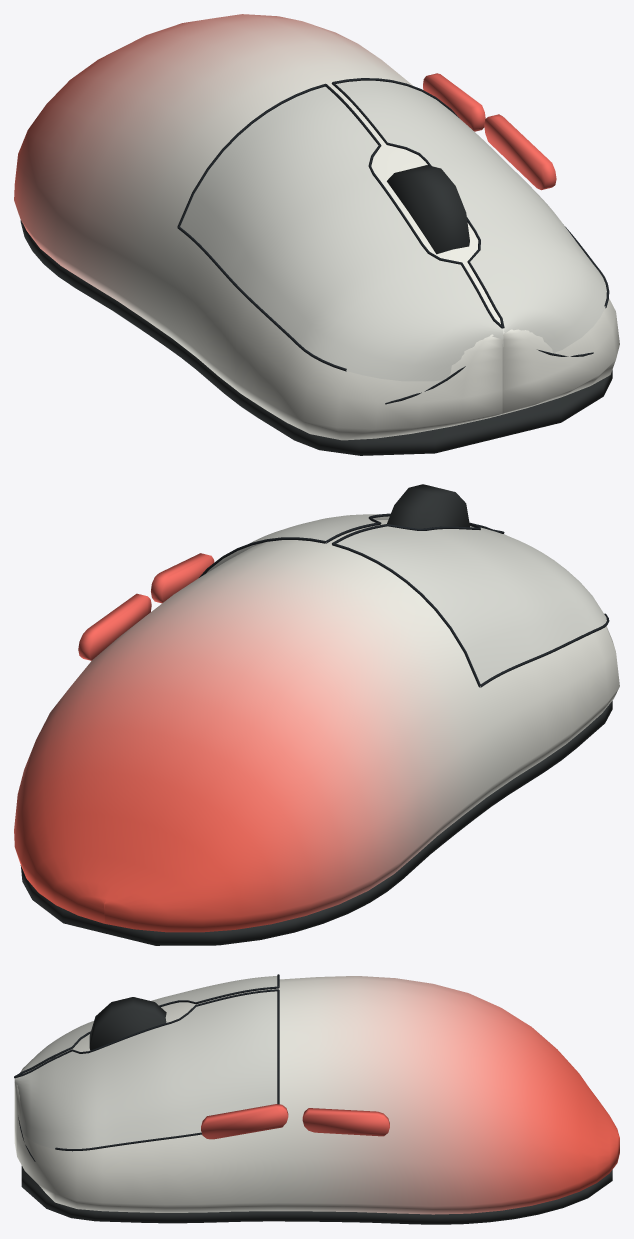
The model's file is lod2_source.glb.
3 views of the same model, one above another, from view 1: azimuth 30°, elevation 25°; view 2: azimuth 150°, elevation 25°; view 3: azimuth 270°, elevation 25° (orthographic). The views are drawn at different scales.
Visible parts, largest first — view 1: Mouse body GPX continuous rounded back, Left click panel, Right click panel, Thin inset black base, Scroll wheel, Curved capsule left side button, Curved capsule left side button.001, Left click center seam, Right click center seam, Left click outer seam, Left click rear seam; view 2: Mouse body GPX continuous rounded back, Left click panel, Thin inset black base, Scroll wheel, Curved capsule left side button.001, Right click panel, Curved capsule left side button, Left click rear seam; view 3: Mouse body GPX continuous rounded back, Right click panel, Thin inset black base, Scroll wheel, Left click panel, Curved capsule left side button, Curved capsule left side button.001, Right click center seam, Left click center seam, Right click outer seam.
Part boxes in pixels (<box>): Mouse body GPX continuous rounded back: <box>14,14,619,440</box>; Left click panel: <box>180,86,502,381</box>; Right click panel: <box>336,80,606,352</box>; Thin inset black base: <box>20,220,612,455</box>; Scroll wheel: <box>387,165,469,254</box>; Curved capsule left side button: <box>484,114,556,190</box>; Curved capsule left side button.001: <box>423,73,485,131</box>; Left click center seam: <box>325,84,503,328</box>; Right click center seam: <box>331,82,504,328</box>; Left click outer seam: <box>177,226,346,371</box>; Left click rear seam: <box>177,83,325,226</box>; Mouse body GPX continuous rounded back: <box>14,520,619,932</box>; Left click panel: <box>336,526,606,687</box>; Thin inset black base: <box>20,701,612,945</box>; Scroll wheel: <box>387,484,469,528</box>; Curved capsule left side button.001: <box>78,593,151,660</box>; Right click panel: <box>206,514,473,573</box>; Curved capsule left side button: <box>151,553,214,603</box>; Left click rear seam: <box>332,543,480,686</box>; Mouse body GPX continuous rounded back: <box>14,976,619,1214</box>; Right click panel: <box>14,991,277,1148</box>; Thin inset black base: <box>21,1166,612,1224</box>; Scroll wheel: <box>89,997,166,1050</box>; Left click panel: <box>20,976,277,1072</box>; Curved capsule left side button: <box>201,1104,288,1139</box>; Curved capsule left side button.001: <box>302,1108,389,1136</box>; Right click center seam: <box>14,989,277,1078</box>; Left click center seam: <box>14,986,278,1076</box>; Right click outer seam: <box>55,1132,201,1151</box>.
Bounding box in the file's own units: 0.0635 × 0.04 × 0.125.
